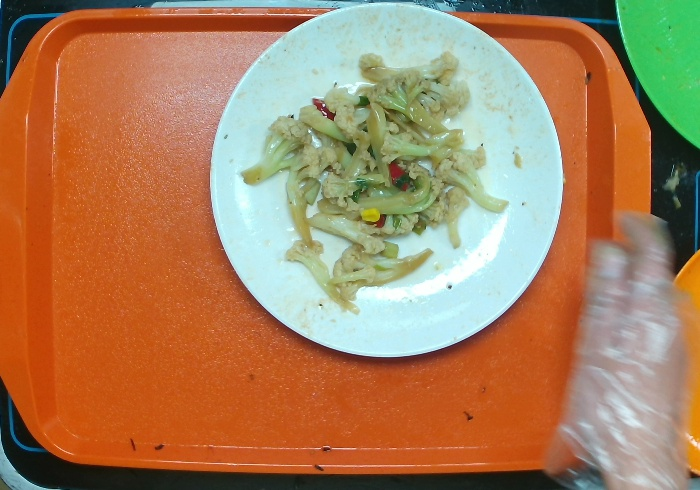HZYJPL-Bai_Se_Yuan_Pan: (206, 1, 562, 360)
